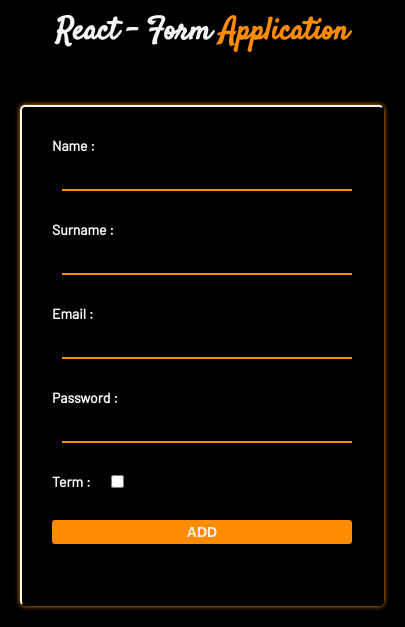
Scenario: Form_Validation Testing › termsCheck - Testing
Click the checkbox with id "terms".
click(118, 482)  # box [111,475,124,488]
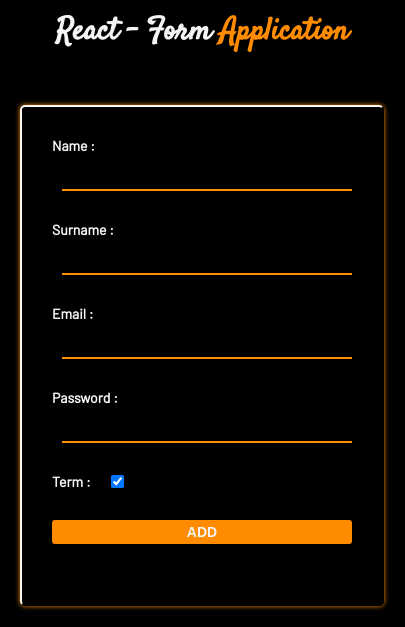
Click the checkbox with id "terms".
click(118, 482)  # box [111,475,124,488]
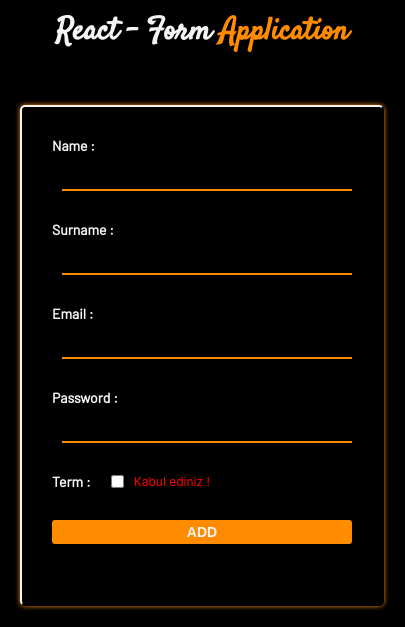
Result: the text "Kabul ediniz !" is shown at [134,474,210,489]
